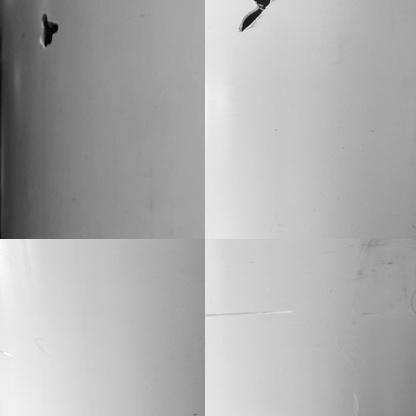kongdong: (236, 1, 270, 33), (34, 13, 61, 50)
sunshang: (206, 307, 296, 320)
